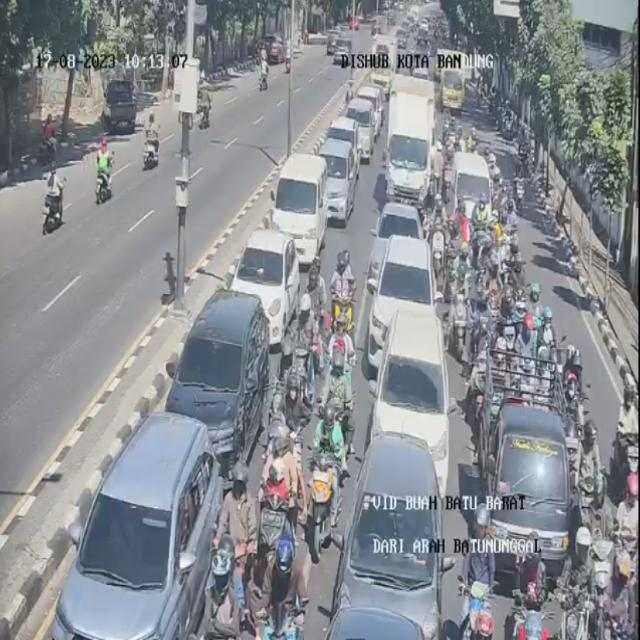cars: (51, 416, 222, 640), (343, 439, 454, 640), (164, 292, 267, 472), (486, 401, 574, 589), (366, 301, 450, 466), (365, 234, 435, 363), (233, 230, 301, 342), (270, 154, 326, 268), (370, 200, 423, 292), (307, 605, 434, 640), (319, 137, 360, 226), (454, 150, 496, 232), (346, 94, 379, 156), (328, 116, 368, 166)
motorcycle: (257, 430, 300, 604), (304, 398, 348, 560), (608, 429, 640, 607), (319, 344, 358, 484), (259, 537, 304, 640), (513, 534, 553, 640), (287, 296, 317, 426), (570, 416, 602, 532), (212, 512, 242, 632), (602, 549, 639, 640), (615, 378, 640, 512), (330, 248, 360, 357), (329, 289, 357, 385), (559, 339, 586, 433), (536, 305, 559, 402), (300, 258, 327, 340), (452, 284, 475, 365), (458, 600, 504, 640), (466, 358, 489, 432), (500, 286, 519, 364), (526, 282, 543, 360), (443, 110, 459, 152), (516, 158, 528, 208)
truck: (382, 87, 432, 212), (438, 52, 468, 111)
